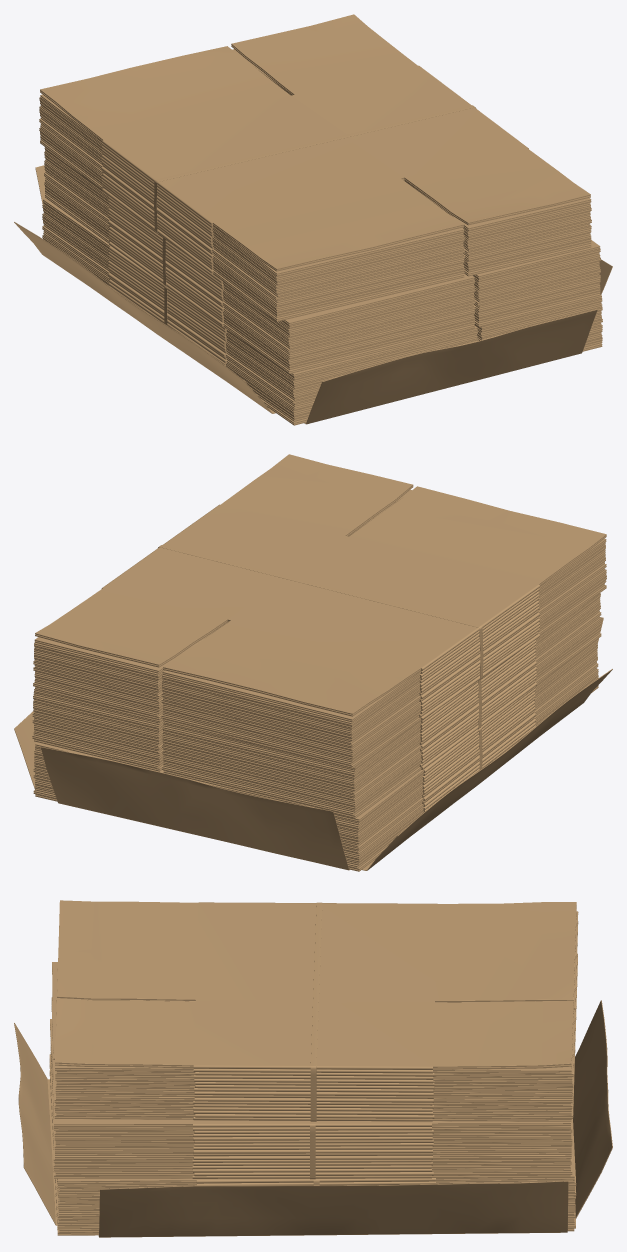
The model's file is box_cardboard_folded_brown_a05.glb.
The picture shows the model from 3 angles, top to bottom: view 1: azimuth 30°, elevation 25°; view 2: azimuth 150°, elevation 25°; view 3: azimuth 270°, elevation 25°; orthographic projection. The views are drawn at different scales.
Size of the model in its own units: 0.8085 by 0.3199 by 1.02.
